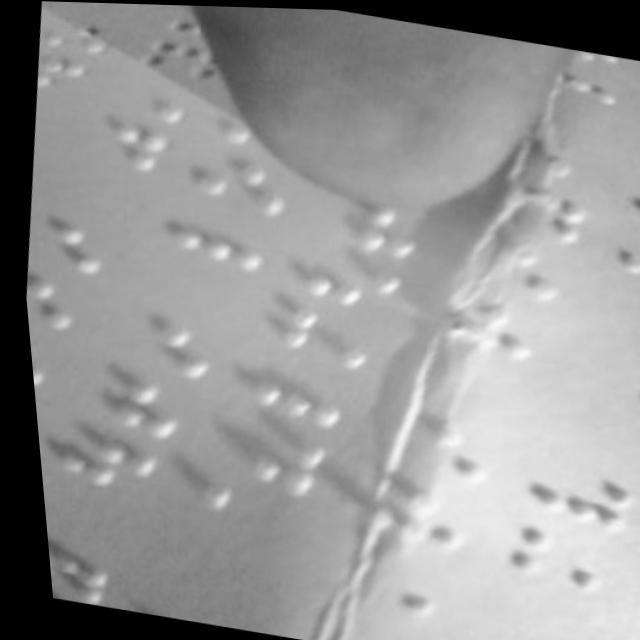braiile: (276, 240, 404, 315), (490, 519, 608, 597), (96, 306, 212, 383), (515, 461, 633, 536), (44, 424, 160, 500), (56, 108, 176, 180), (243, 349, 350, 428), (185, 148, 299, 222), (205, 425, 322, 496), (159, 197, 271, 271), (66, 369, 179, 439), (261, 290, 366, 364), (37, 536, 122, 608), (19, 215, 110, 279), (19, 270, 81, 332), (31, 49, 93, 108), (425, 634, 537, 640)
